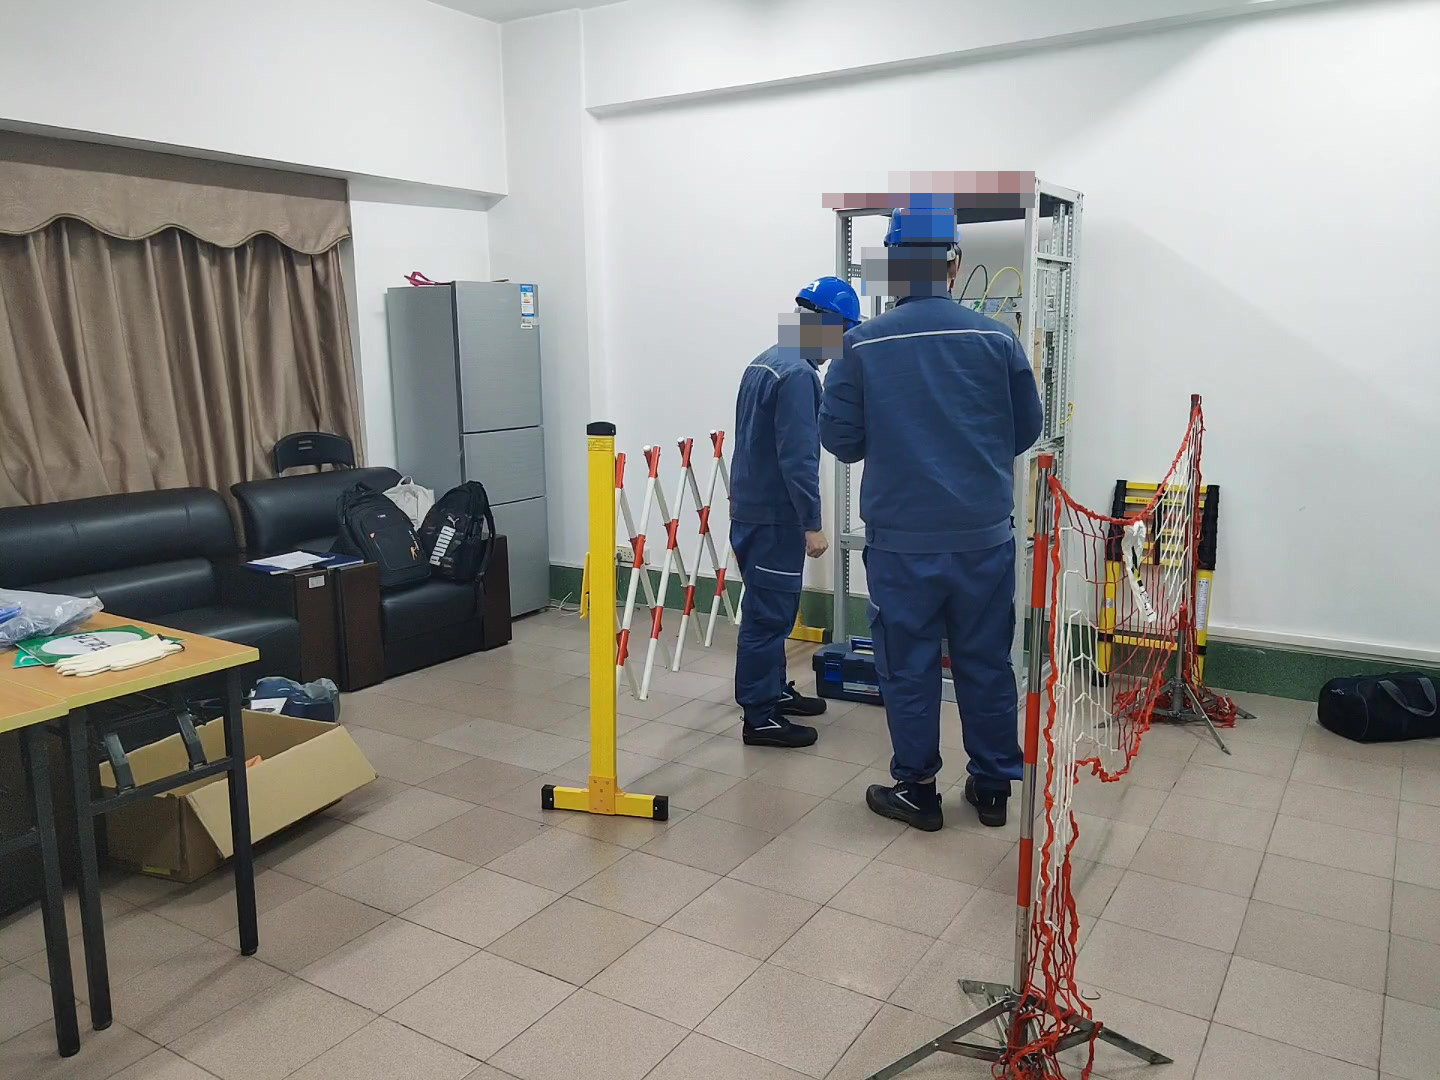downsuit: (863, 559, 1025, 789), (729, 530, 806, 719)
halt: (880, 192, 966, 291), (793, 277, 862, 344)
hand: (805, 527, 829, 558)
inear: (813, 305, 843, 349)
person: (823, 189, 1050, 829), (720, 277, 860, 750)
upsuit: (821, 289, 1050, 544), (730, 336, 821, 513)
